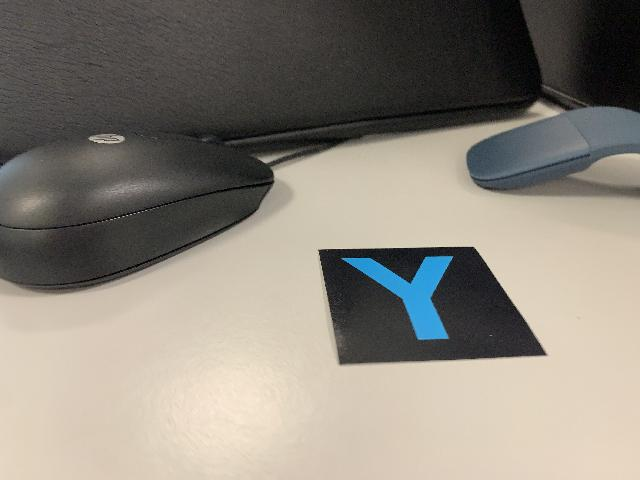y: (315, 246, 551, 368)
